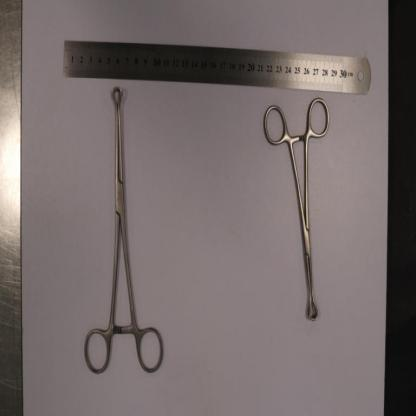8 Babcock Tissue Forceps: (86, 85, 162, 374)
Babcock Tissue Forceps: (263, 98, 329, 322)
